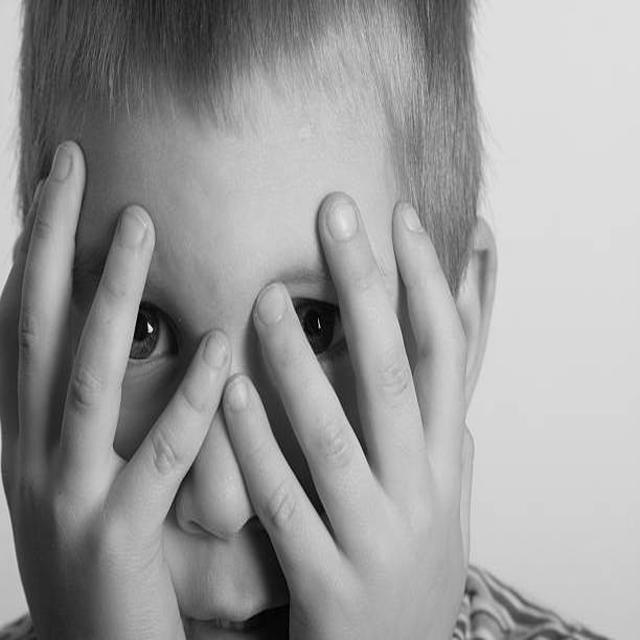Happiness: (52, 99, 398, 640)
